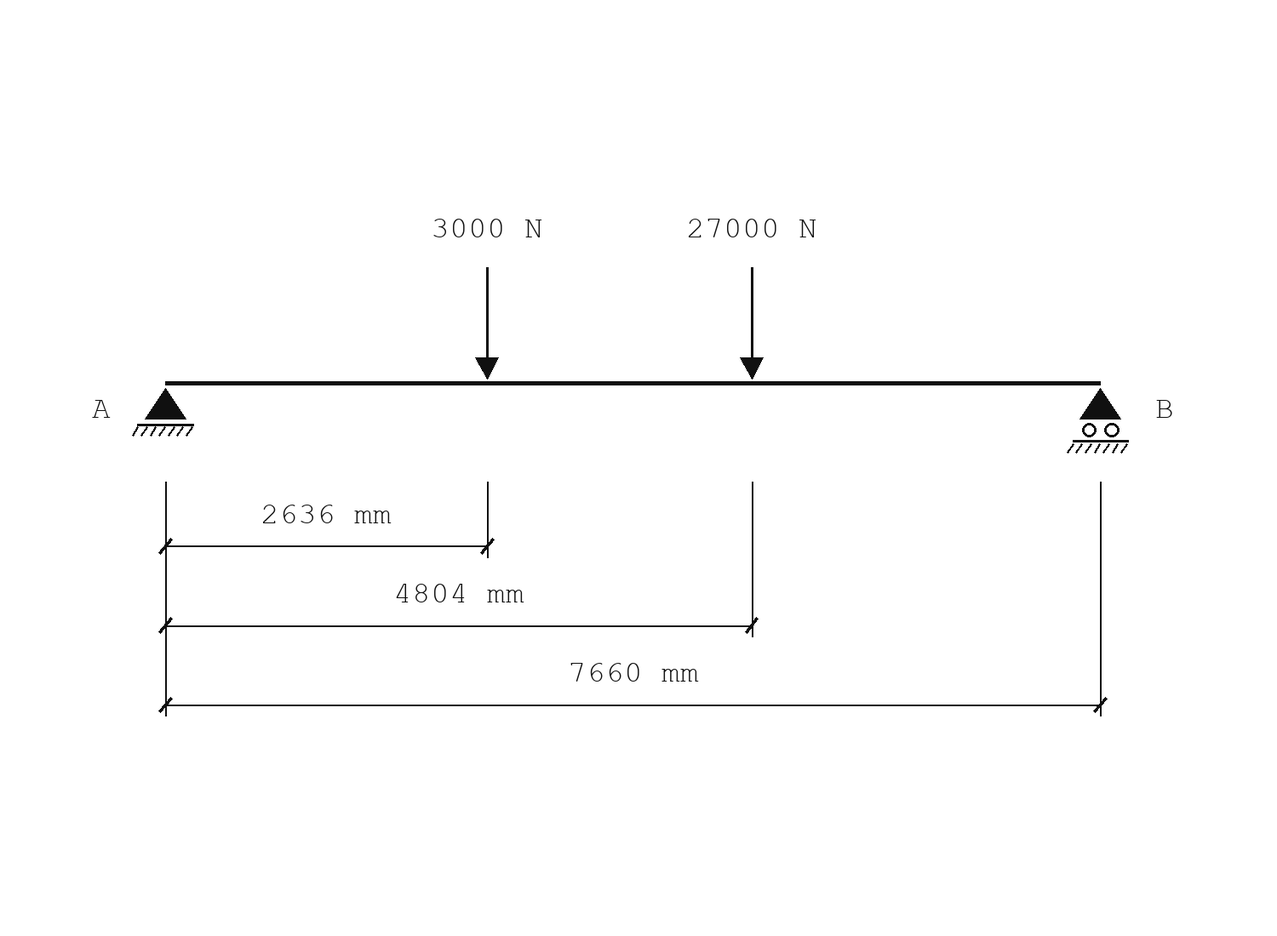pin_support: (132, 388, 194, 437)
point_load: (475, 267, 499, 380), (740, 267, 764, 380)
roller_support: (1067, 388, 1129, 454)
